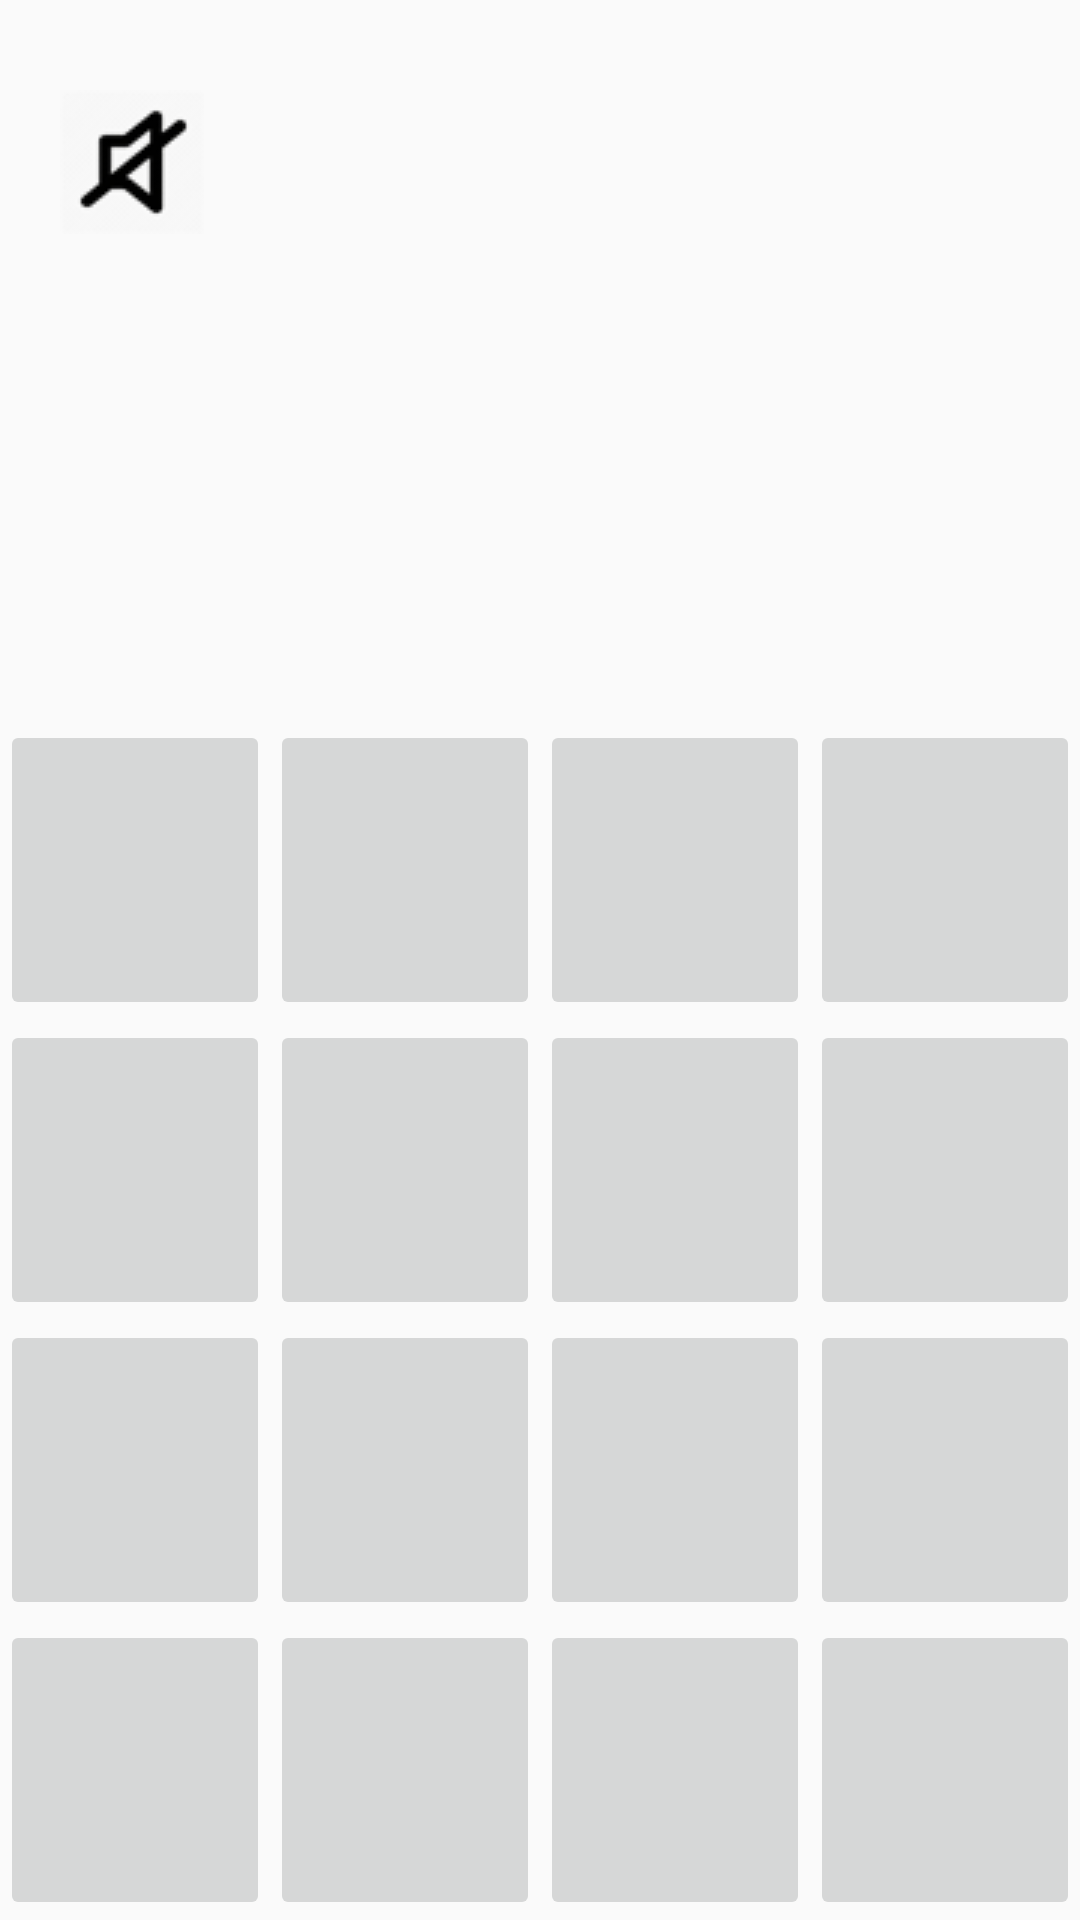

Where icons sit on this 1080px×1920px app screen, as [x1,y1,x2,y2]:
mute volume: [80,110,187,214]
